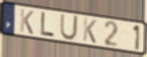1: (132, 24, 141, 51)
2: (103, 20, 119, 49)
K: (82, 17, 98, 45), (19, 8, 35, 36)
L: (40, 11, 56, 39)
U: (59, 13, 80, 42)
